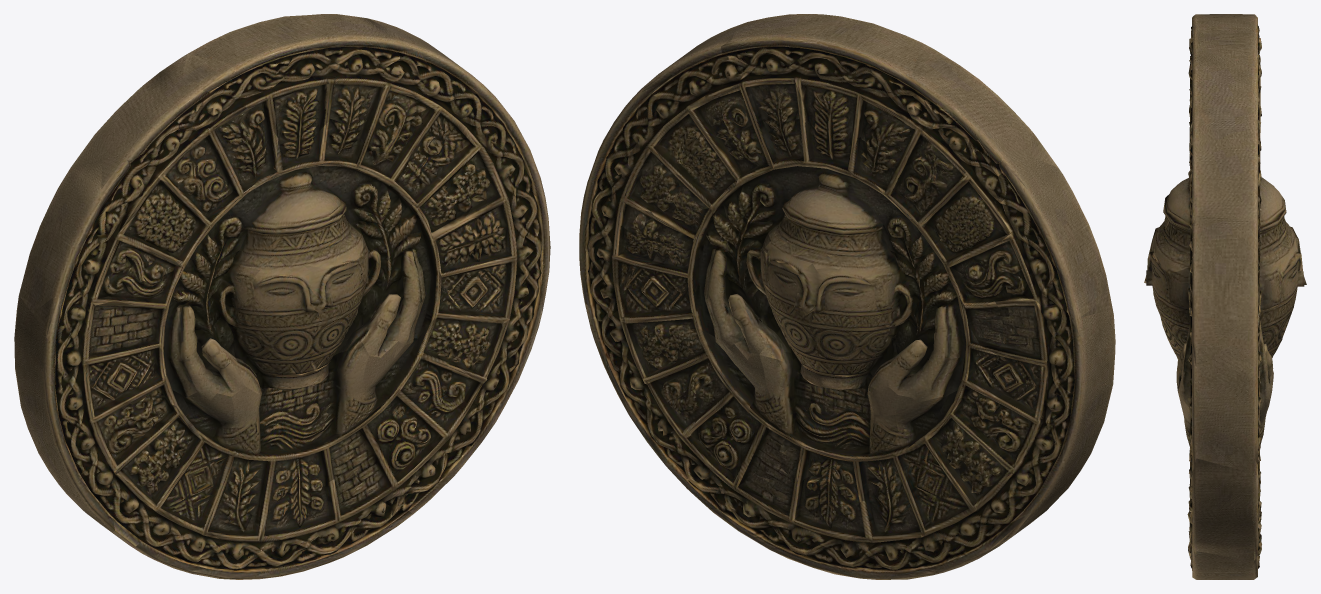
Rendered from AR-seal-fragments.glb.
3 renders of one model, left to right at view 1: azimuth 30°, elevation 25°; view 2: azimuth 150°, elevation 25°; view 3: azimuth 270°, elevation 25°, orthographic. The views are drawn at different scales.
Parts seen in each view (by area): view 1: Seal_Fragment_20, Seal_Fragment_07, Seal_Fragment_05, Seal_Fragment_15, Seal_Fragment_17, Seal_Fragment_10, Seal_Fragment_16, Seal_Fragment_12, Seal_Fragment_06, Seal_Fragment_02, Seal_Fragment_09, Seal_Fragment_11 (+9 smaller); view 2: Seal_Fragment_20, Seal_Fragment_07, Seal_Fragment_05, Seal_Fragment_15, Seal_Fragment_17, Seal_Fragment_10, Seal_Fragment_16, Seal_Fragment_12, Seal_Fragment_06, Seal_Fragment_02, Seal_Fragment_09, Seal_Fragment_11 (+9 smaller); view 3: Seal_Fragment_18, Seal_Fragment_13, Seal_Fragment_20, Seal_Fragment_21, Seal_Fragment_08, Seal_Fragment_16, Seal_Fragment_12, Seal_Fragment_11, Seal_Fragment_03, Seal_Fragment_07, Seal_Fragment_17.
Boxes of the visible parts, left/top/right/bottom form: Seal_Fragment_20: left=171, top=14, right=418, bottom=152; Seal_Fragment_07: left=343, top=321, right=486, bottom=518; Seal_Fragment_05: left=110, top=390, right=247, bottom=563; Seal_Fragment_15: left=119, top=101, right=257, bottom=284; Seal_Fragment_17: left=348, top=50, right=478, bottom=225; Seal_Fragment_10: left=109, top=250, right=259, bottom=406; Seal_Fragment_16: left=235, top=114, right=363, bottom=269; Seal_Fragment_12: left=350, top=197, right=502, bottom=357; Seal_Fragment_06: left=219, top=350, right=368, bottom=533; Seal_Fragment_02: left=189, top=463, right=412, bottom=579; Seal_Fragment_09: left=14, top=289, right=143, bottom=443; Seal_Fragment_11: left=234, top=256, right=368, bottom=393; Seal_Fragment_20: left=721, top=14, right=959, bottom=158; Seal_Fragment_07: left=643, top=320, right=786, bottom=519; Seal_Fragment_05: left=889, top=390, right=1031, bottom=563; Seal_Fragment_15: left=871, top=100, right=1010, bottom=284; Seal_Fragment_17: left=652, top=54, right=778, bottom=222; Seal_Fragment_10: left=866, top=250, right=1017, bottom=402; Seal_Fragment_16: left=763, top=101, right=892, bottom=271; Seal_Fragment_12: left=631, top=197, right=778, bottom=359; Seal_Fragment_06: left=759, top=351, right=902, bottom=508; Seal_Fragment_02: left=719, top=466, right=939, bottom=579; Seal_Fragment_09: left=981, top=275, right=1115, bottom=429; Seal_Fragment_11: left=759, top=259, right=896, bottom=390; Seal_Fragment_18: left=1189, top=212, right=1260, bottom=366; Seal_Fragment_13: left=1187, top=335, right=1262, bottom=472; Seal_Fragment_20: left=1188, top=14, right=1261, bottom=142; Seal_Fragment_21: left=1190, top=106, right=1258, bottom=223; Seal_Fragment_08: left=1188, top=453, right=1261, bottom=561; Seal_Fragment_16: left=1152, top=108, right=1297, bottom=277; Seal_Fragment_12: left=1166, top=261, right=1282, bottom=429; Seal_Fragment_11: left=1144, top=226, right=1306, bottom=358; Seal_Fragment_03: left=1191, top=546, right=1259, bottom=579; Seal_Fragment_07: left=1178, top=381, right=1273, bottom=568; Seal_Fragment_17: left=1189, top=125, right=1261, bottom=283.
Bounding box in the file's own units: 0.9783 × 0.9798 × 0.2813.
Materials: 1 (1 with a texture image).
